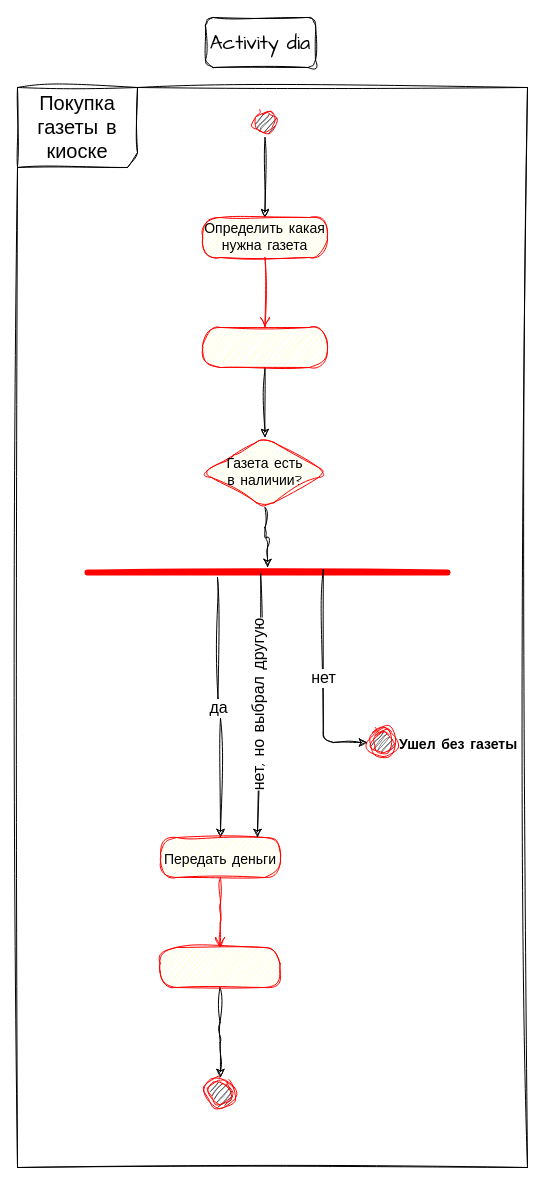
Some shapes in this 545 by 1185 pixel diagram are drawn without their labels. Here are the shapes that lost their labels. From the top down, the centre of each, then its label:
At pixel 265 347: "Запросить газету у работника".
At pixel 219 967: "Забрать газету".
At pixel 220 1092: "Ушел с газетой".
